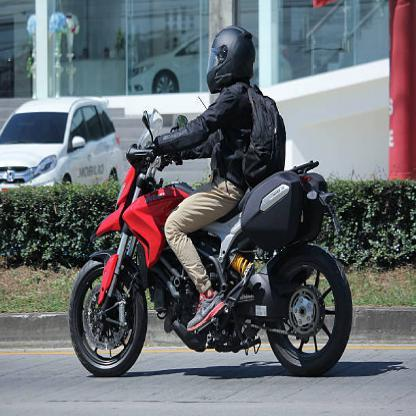Motorcycle: (59, 139, 354, 373)
